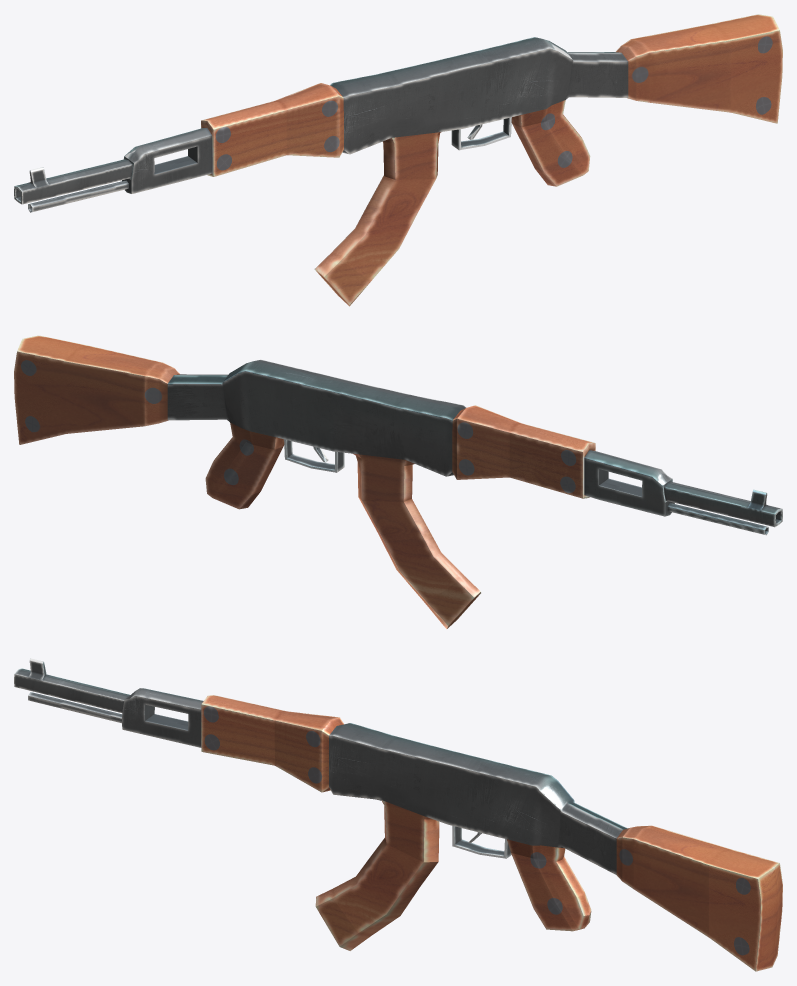
The model's file is low_poly_gun_ak47.glb.
3 views of the same model, one above another, from view 1: azimuth 30°, elevation 25°; view 2: azimuth 150°, elevation 25°; view 3: azimuth 330°, elevation 25° (orthographic).
Parts seen in each view (by area): view 1: Gun; view 2: Gun; view 3: Gun.
Part boxes in pixels (x1,y1,x2,y2): Gun: (14,14,782,306); Gun: (14,335,782,629); Gun: (14,658,782,971).
Size of the model in its own units: 29.43 by 8.39 by 1.47.
1 material, 1 textured.
